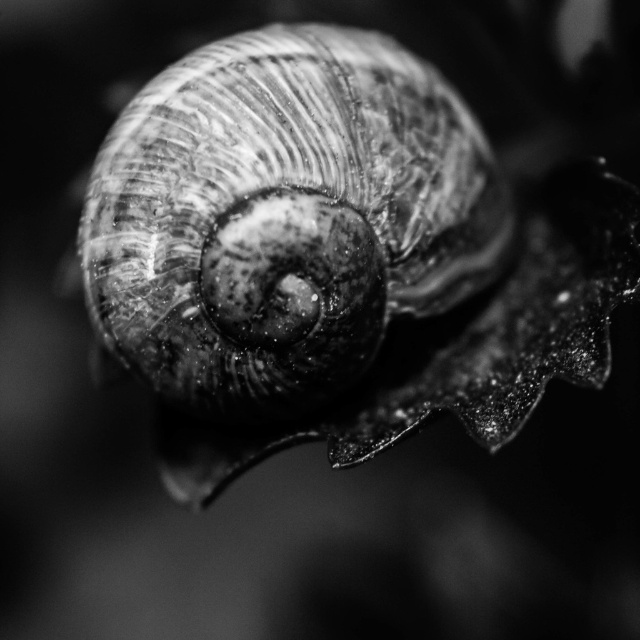Snail: (64, 10, 540, 440)
